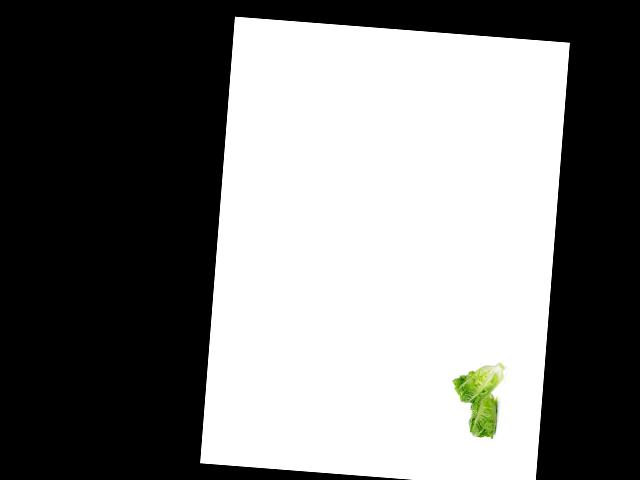lettuce: (452, 358, 509, 411)
